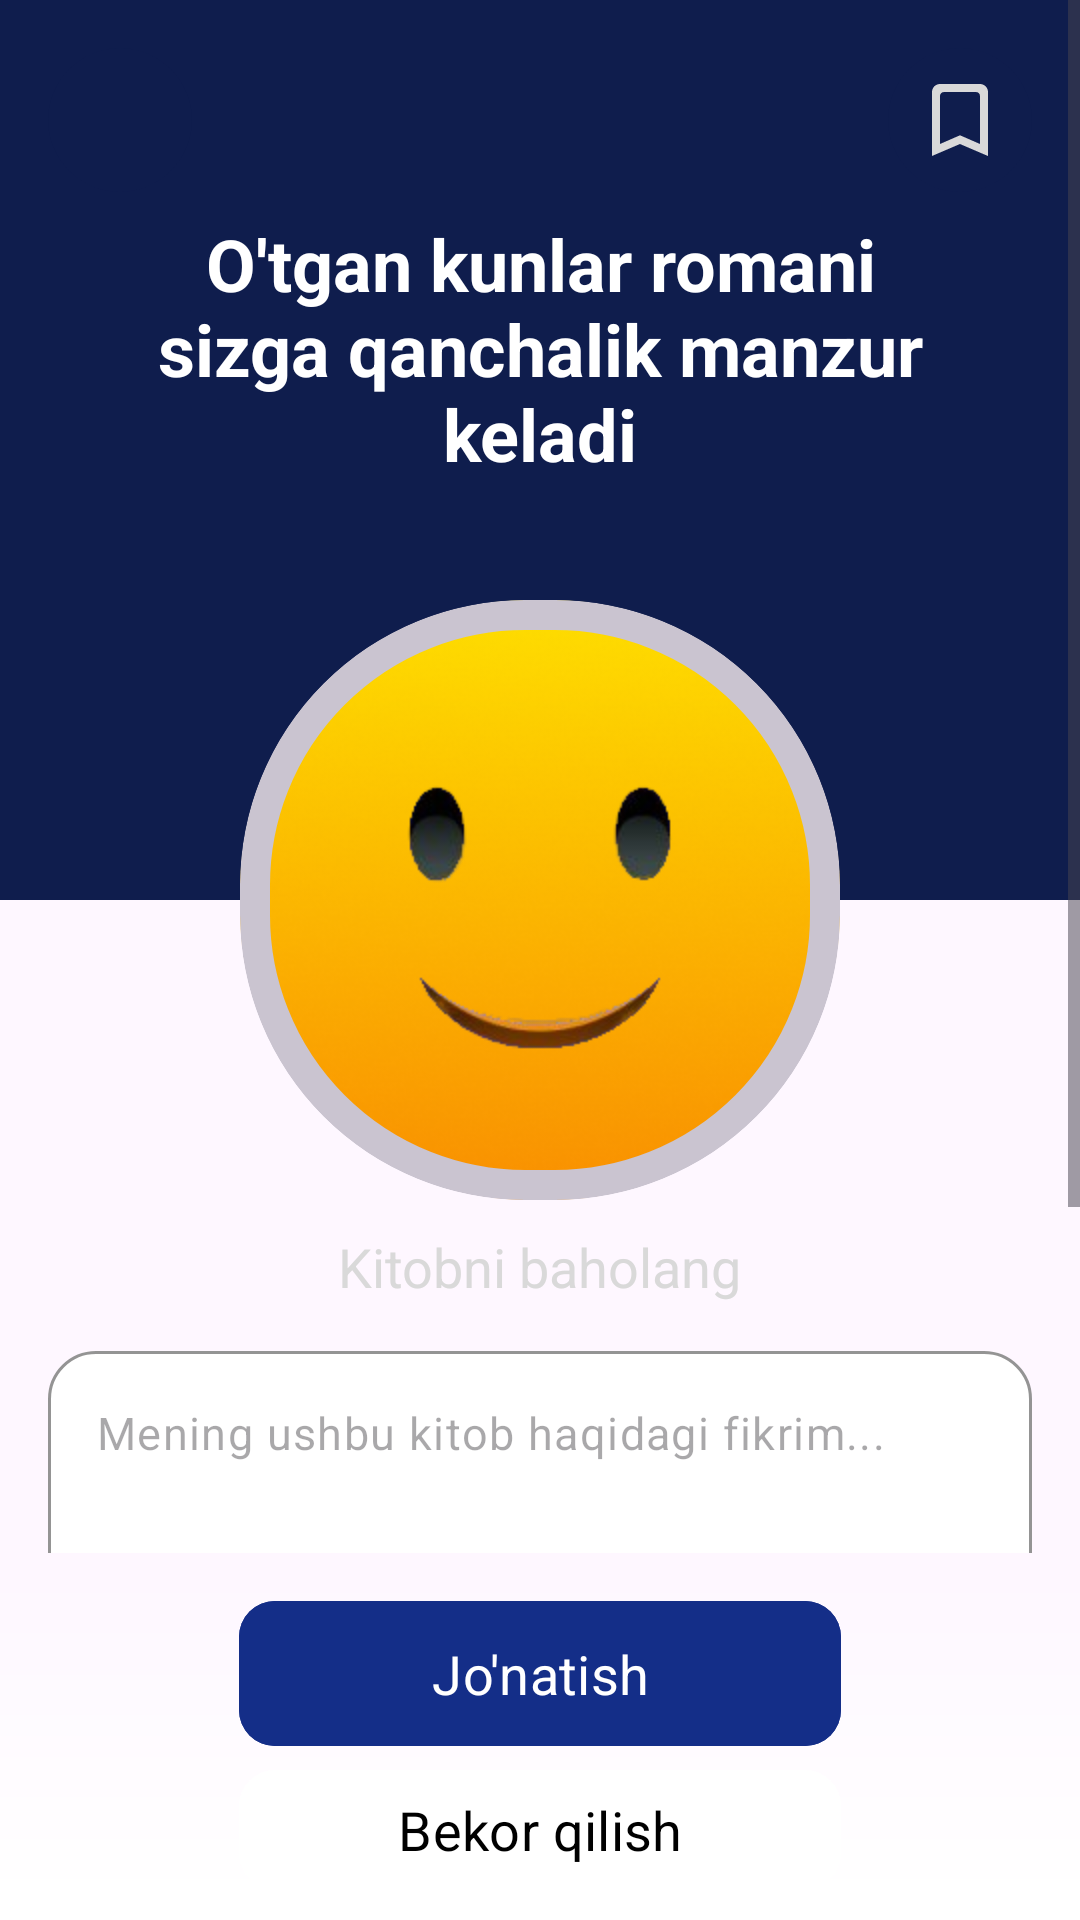

Icon bounding boxes for this 1080px x 1920px phone screenshot, format (left=x1, top=y1, right=x2, bottom=y2):
bookmark: (left=932, top=84, right=988, bottom=156)
